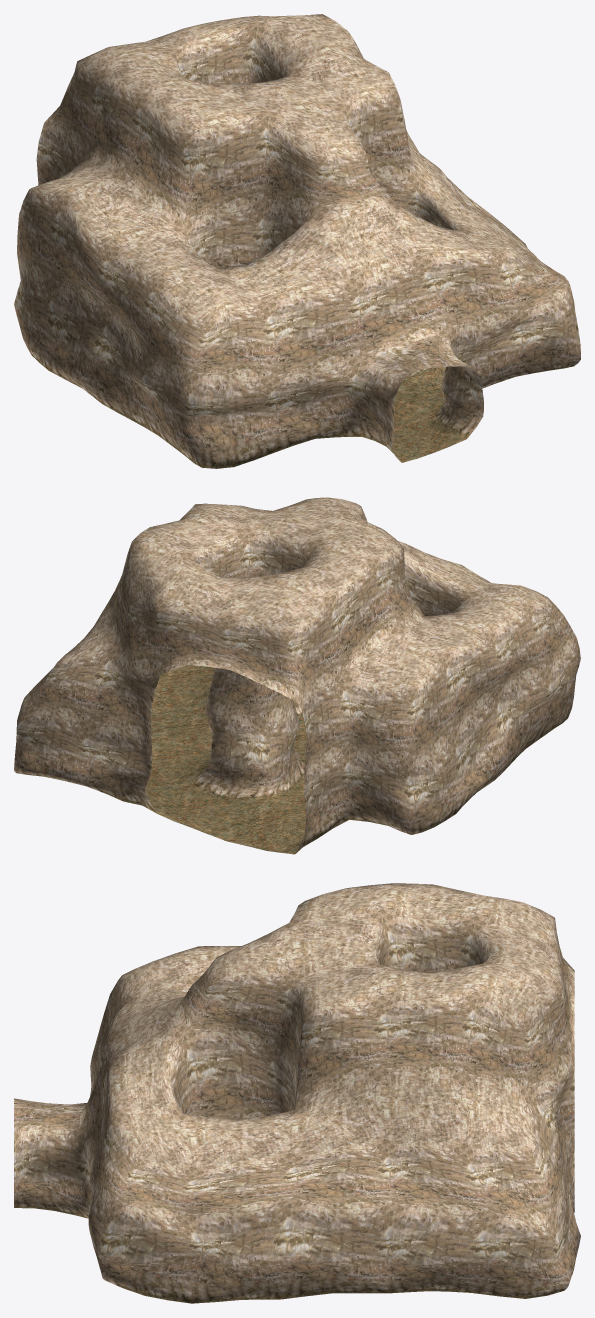
The model's file is thm_all_cave_s03_mirror_r28_mesh_r28.fbx.
The picture shows the model from 3 angles, top to bottom: view 1: azimuth 30°, elevation 25°; view 2: azimuth 150°, elevation 25°; view 3: azimuth 270°, elevation 25°; orthographic projection. The views are drawn at different scales.
Parts seen in each view (by area): view 1: mesh_node; view 2: mesh_node; view 3: mesh_node.
Boxes of the visible parts, box(x1,y1,x2,y2) form: mesh_node: box(14, 14, 580, 468); mesh_node: box(14, 497, 580, 854); mesh_node: box(14, 883, 580, 1303).
Size of the model in its own units: 51.96 by 31.67 by 58.71.
